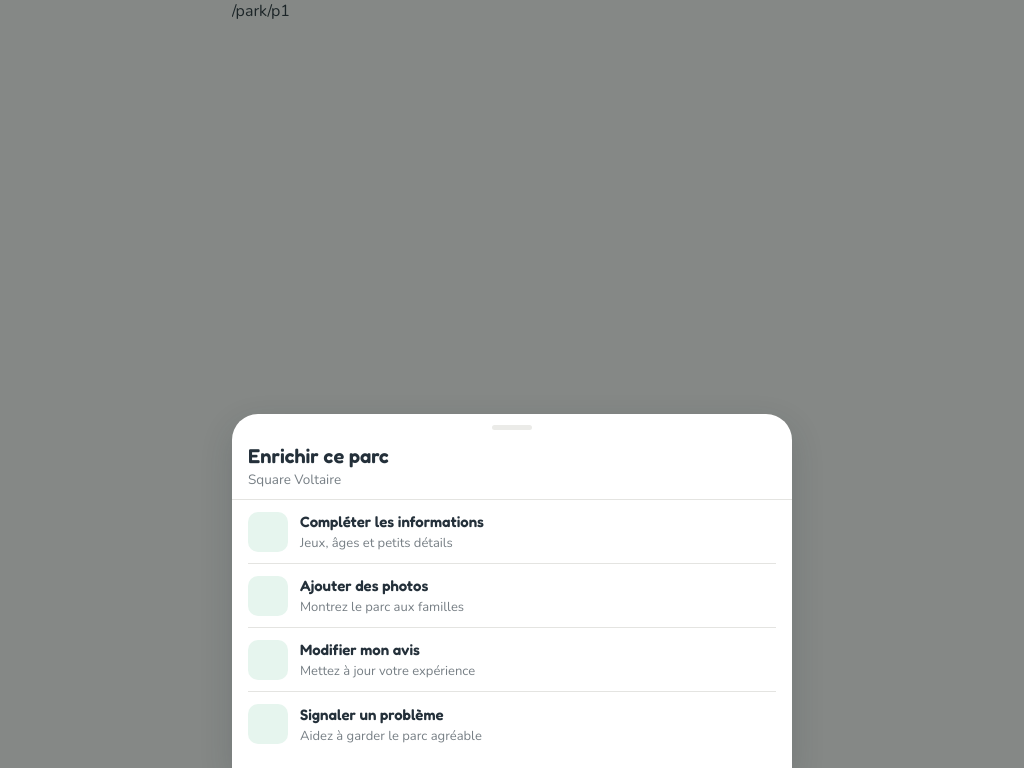
Test: ContributeSheet — « Enrichir ce parc » › un avis déjà publié → « Modifier mon avis » ouvre son édition (jamais un doublon)
Click the text "Modifier mon avis": coordinates (360, 650) [300,640,420,659]
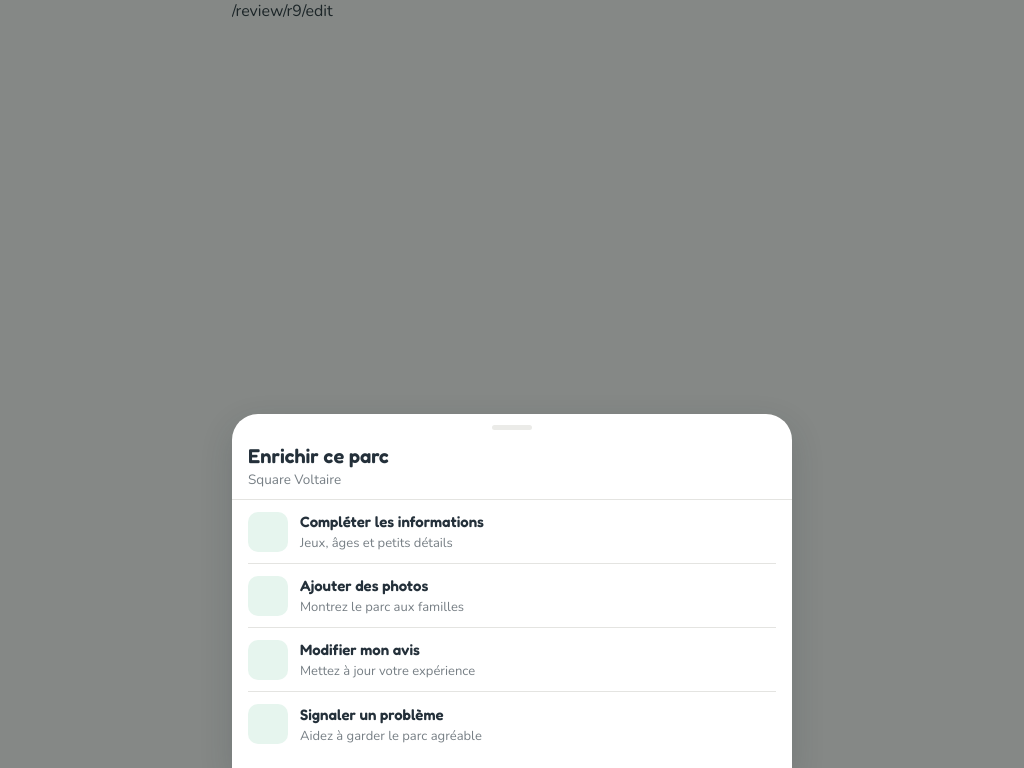
Now the text with test id "where" reads "/review/r9/edit", box [232,0,333,22]
